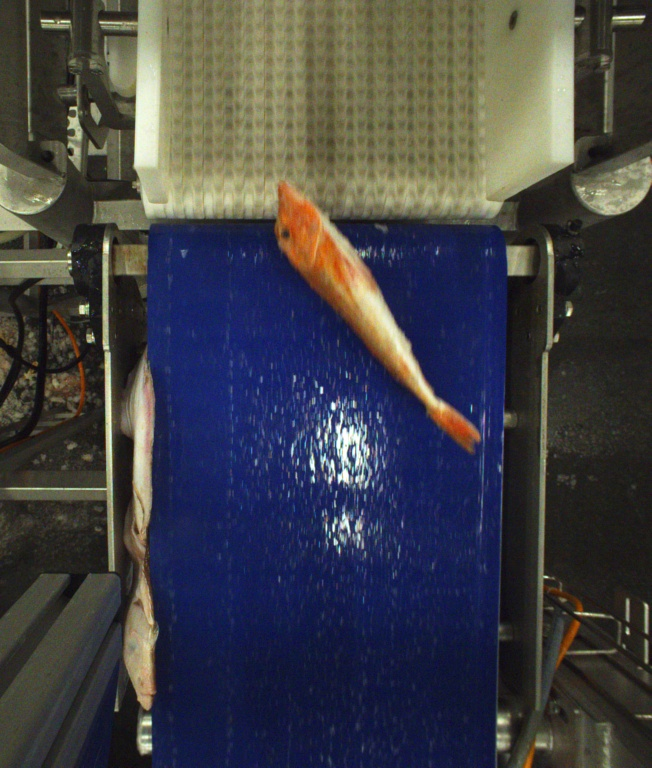GUU: (272, 176, 481, 456)
